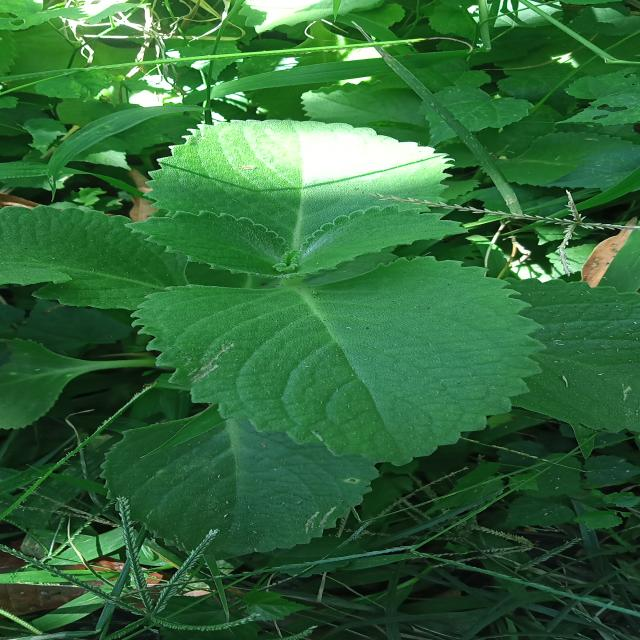Oregano: (100, 111, 558, 500), (97, 254, 585, 468), (94, 189, 496, 294)
